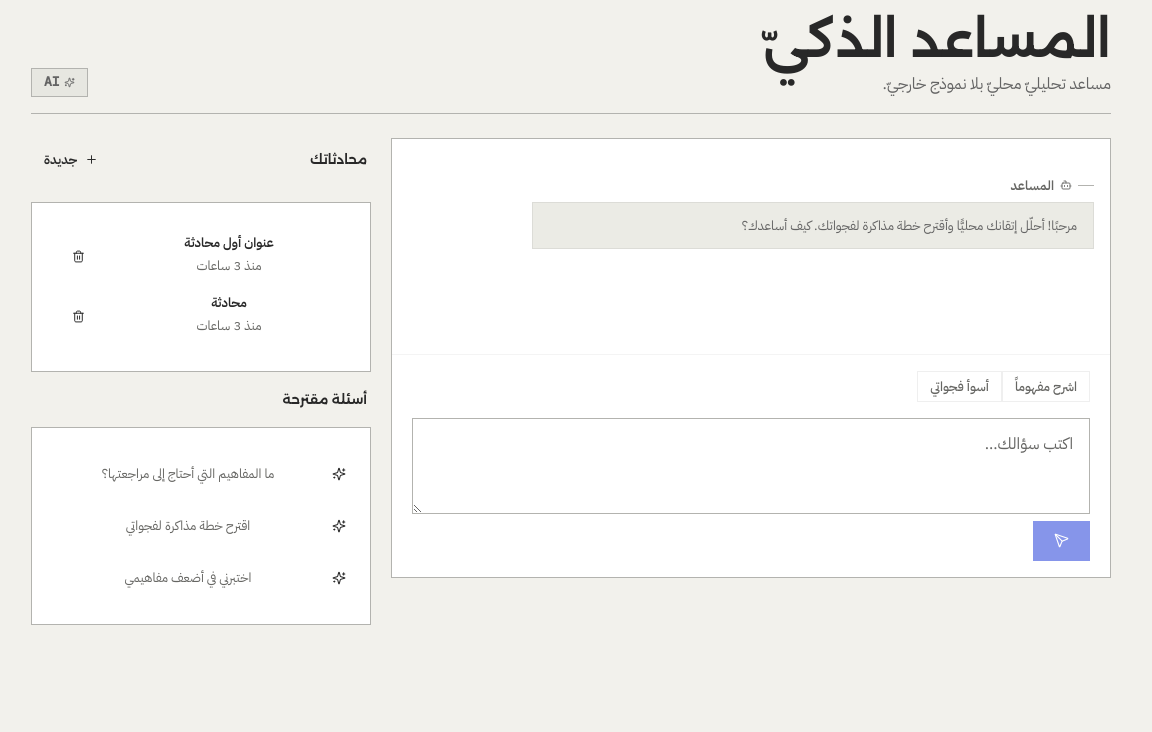
AiAssistantPage — conversation management (r164g) › deleting the CURRENT conversation resets the log honestly; another row's delete leaves it alone
Later steps or results of the test are not shown.
Step 1. Click the button with aria-label "فتح محادثة: عنوان أول محادثة" → point(229, 256), box [112,234,346,278]
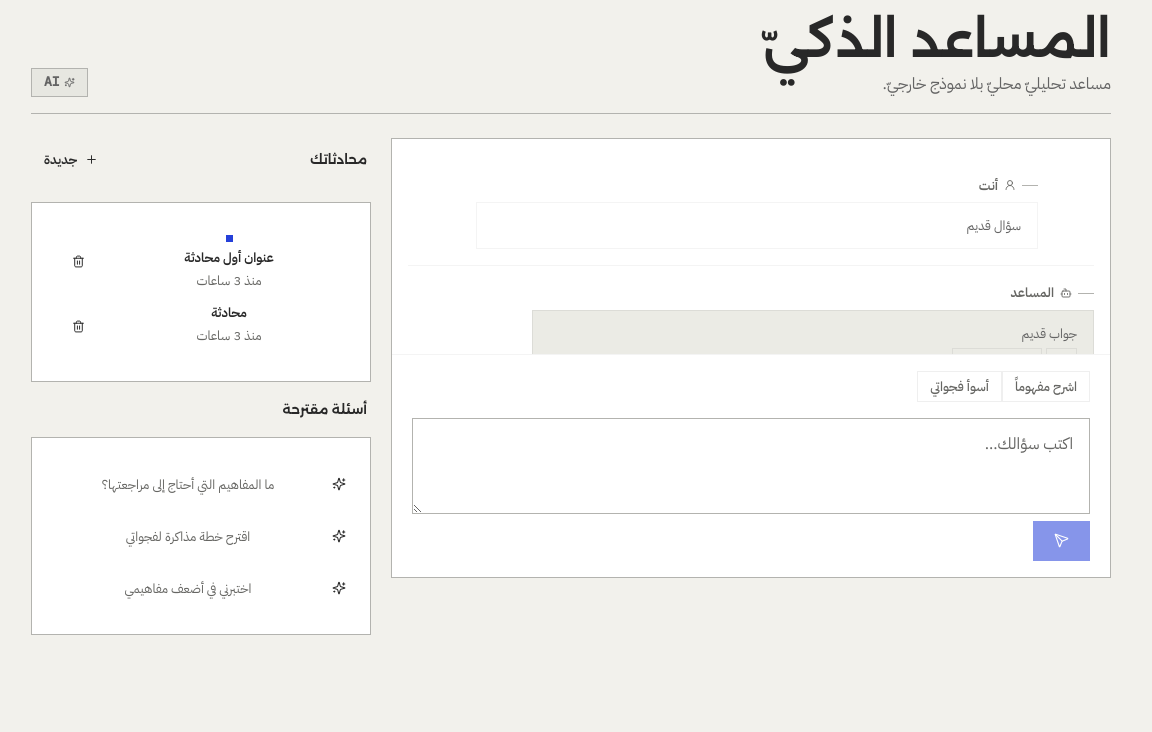
Expected: the text "سؤال قديم" is shown, [966,216,1021,235]
Step 2. Click the button named "حذف محادثة: محادثة" → point(78, 327), box [56,305,100,349]
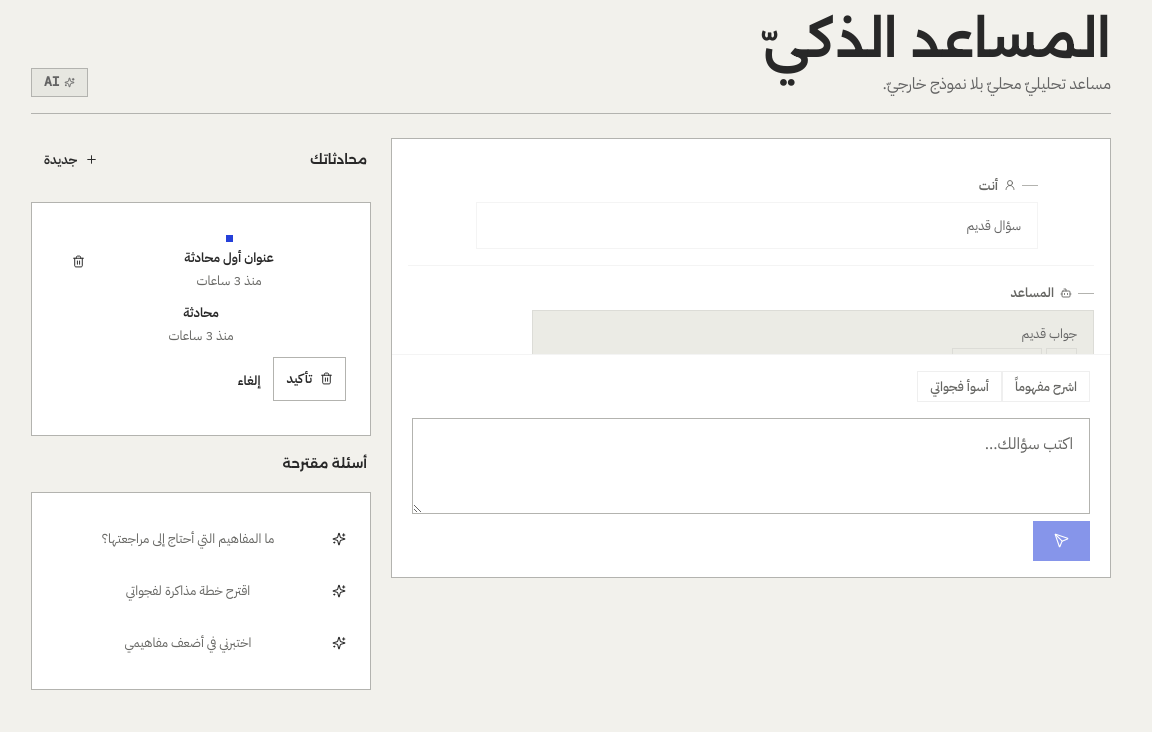
Step 3. Click the button "تأكيد" → point(310, 379), box [274,357,346,401]
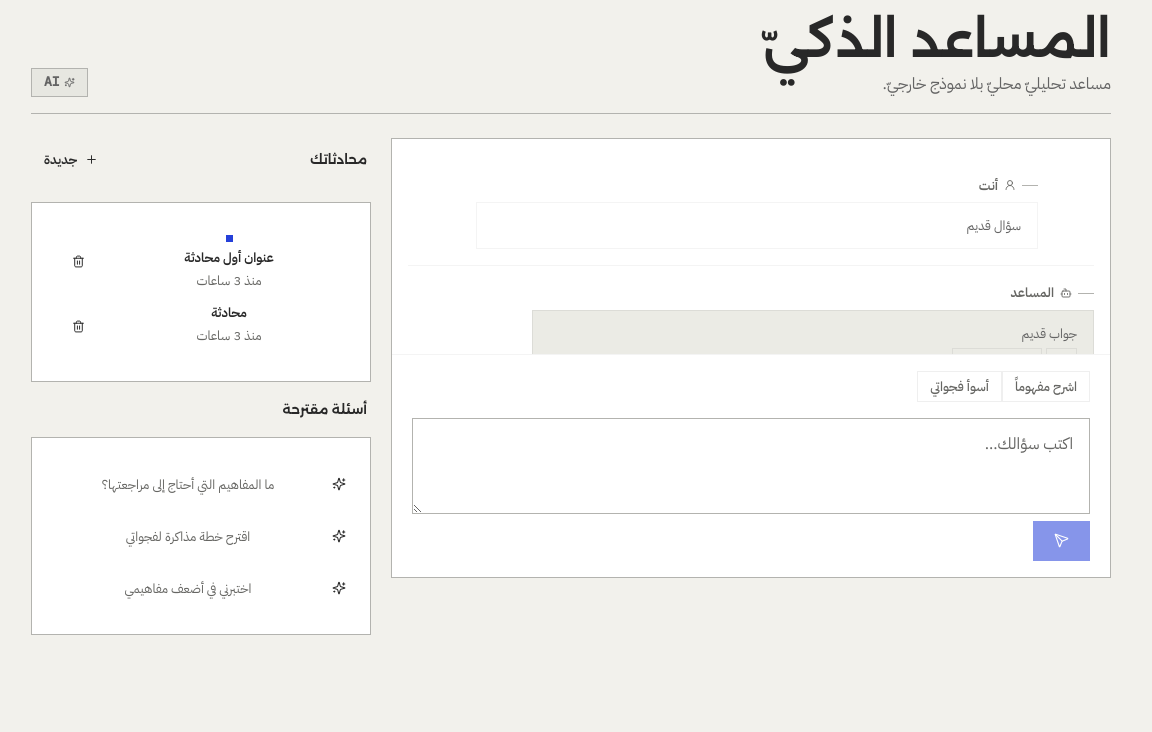
Expected: the text "سؤال قديم" is shown, [966,216,1021,235]
Step 4. Click the button named "حذف محادثة: عنوان أول محادثة" → point(78, 262), box [56,240,100,284]
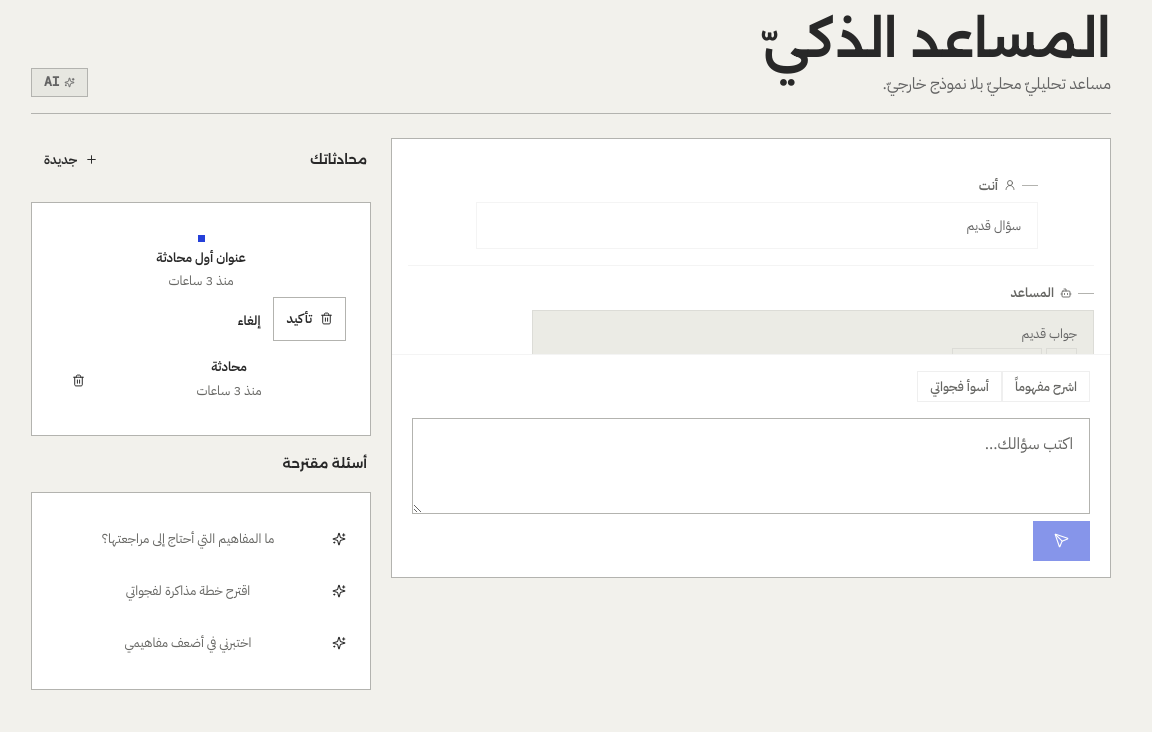
Step 5. Click the button "تأكيد" → point(310, 319), box [274,297,346,341]
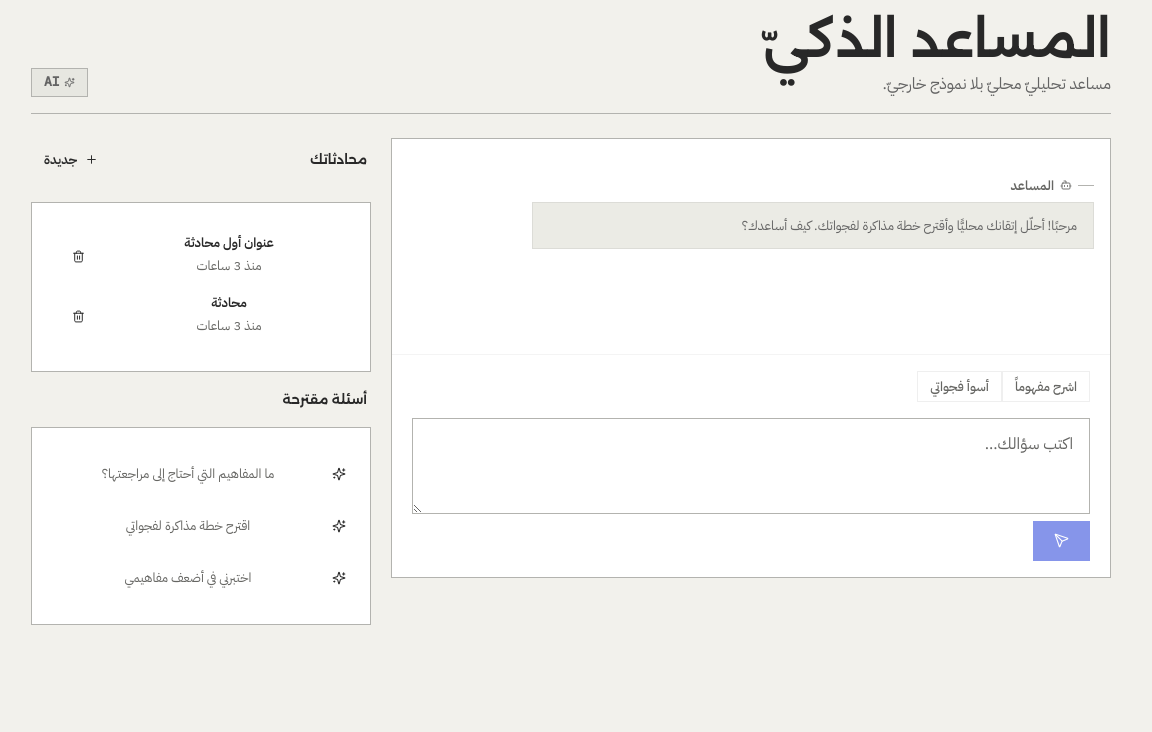
Expected: the text "أحلّل إتقانك محليًّا" is shown, [742,216,1077,235]
Expected: the text "سؤال قديم" is gone
